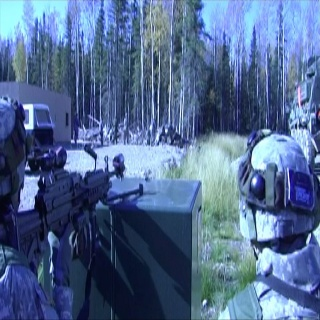rifle: (2, 143, 145, 271)
